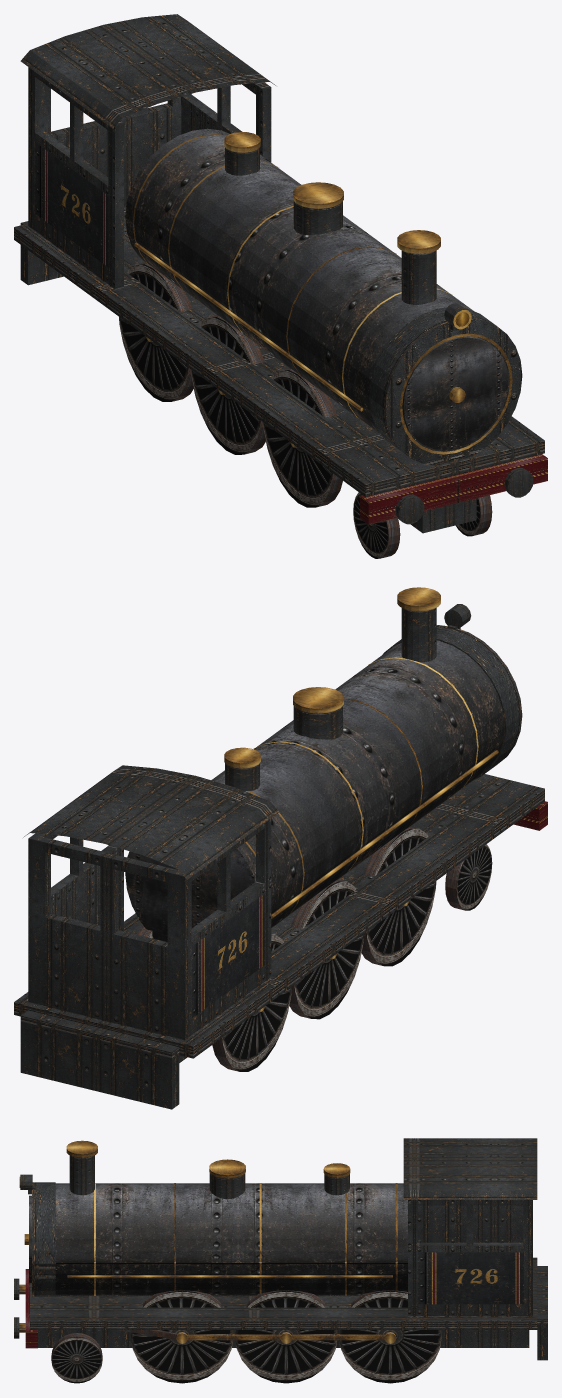
The model's file is locomotive.glb.
3 views of the same model, one above another, from view 1: azimuth 30°, elevation 25°; view 2: azimuth 150°, elevation 25°; view 3: azimuth 270°, elevation 25° (orthographic). The views are drawn at different scales.
Parts seen in each view (by area): view 1: round_boiler, locomotive_frame_and_footplate, smokebox_and_front_disk, cab_roof, cab_lower_body, cab_window_frames, cab_number_726, driving_wheel_L_1, driving_wheel_L_2, driving_wheel_L_3, front_buffer_beam, steam_domes (+7 smaller); view 2: round_boiler, locomotive_frame_and_footplate, cab_lower_body, cab_roof, cab_window_frames, cab_number_726, driving_wheel_L_1, driving_wheel_L_2, steam_domes, driving_wheel_L_3, smokebox_and_front_disk, chimney (+3 smaller); view 3: round_boiler, locomotive_frame_and_footplate, cab_roof, cab_lower_body, cab_number_726, driving_wheel_R_1, driving_wheel_R_2, driving_wheel_R_3, smokebox_and_front_disk, cab_window_frames, inner_chassis, steam_domes (+7 smaller).
Part boxes in pixels (<box>): round_boiler: <box>125,128,473,435</box>; locomotive_frame_and_footplate: <box>14,208,544,496</box>; smokebox_and_front_disk: <box>369,307,522,465</box>; cab_roof: <box>20,14,275,128</box>; cab_lower_body: <box>28,103,270,289</box>; cab_window_frames: <box>28,67,271,200</box>; cab_number_726: <box>34,142,108,267</box>; driving_wheel_L_1: <box>263,368,342,507</box>; driving_wheel_L_2: <box>191,315,265,454</box>; driving_wheel_L_3: <box>119,262,193,401</box>; front_buffer_beam: <box>360,454,547,524</box>; steam_domes: <box>224,132,343,234</box>; round_boiler: <box>125,640,504,941</box>; locomotive_frame_and_footplate: <box>14,774,544,1109</box>; cab_lower_body: <box>28,851,271,1040</box>; cab_roof: <box>23,765,279,879</box>; cab_window_frames: <box>28,818,271,951</box>; cab_number_726: <box>191,893,265,1018</box>; driving_wheel_L_1: <box>361,826,436,966</box>; driving_wheel_L_2: <box>289,879,364,1019</box>; steam_domes: <box>224,687,343,791</box>; driving_wheel_L_3: <box>212,933,291,1071</box>; smokebox_and_front_disk: <box>382,625,522,779</box>; chimney: <box>397,587,440,662</box>; round_boiler: <box>55,1183,407,1295</box>; locomotive_frame_and_footplate: <box>30,1257,547,1360</box>; cab_roof: <box>403,1138,537,1199</box>; cab_lower_body: <box>408,1205,532,1316</box>; cab_number_726: <box>417,1252,523,1304</box>; driving_wheel_R_1: <box>131,1290,233,1383</box>; driving_wheel_R_2: <box>235,1290,337,1383</box>; driving_wheel_R_3: <box>339,1290,441,1383</box>; smokebox_and_front_disk: <box>24,1182,55,1296</box>; cab_window_frames: <box>408,1200,532,1252</box>; inner_chassis: <box>38,1330,529,1347</box>; steam_domes: <box>209,1159,350,1199</box>.
Size of the model in its own units: 2.8 by 4.5 by 10.
8 materials, 8 textured.
